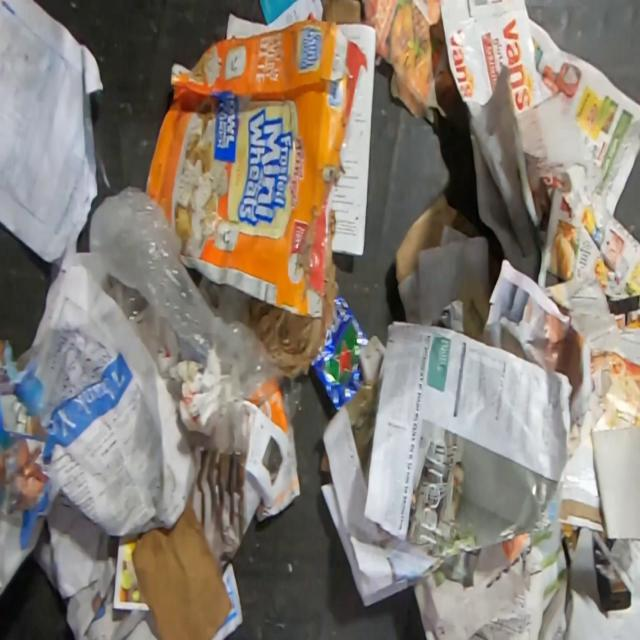cardboard: (143, 12, 370, 317), (131, 484, 233, 640), (0, 339, 50, 518), (394, 195, 482, 286)
metal: (309, 296, 370, 413)
rigid_plastic: (102, 271, 166, 357)
soft_plastic: (88, 186, 304, 420)
